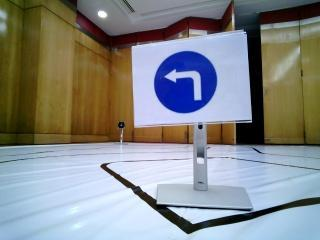left: (131, 44, 237, 117)
